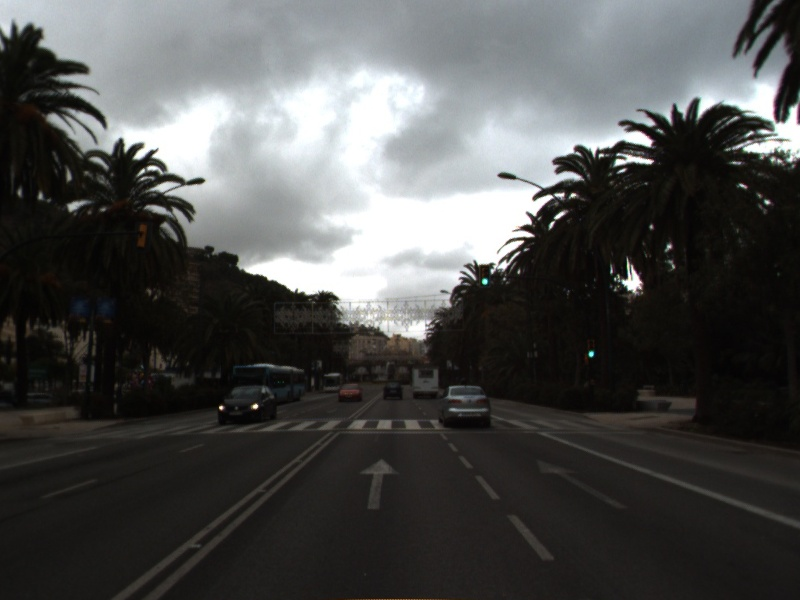STRAIGHT: (534, 456, 633, 512), (356, 456, 402, 511)
